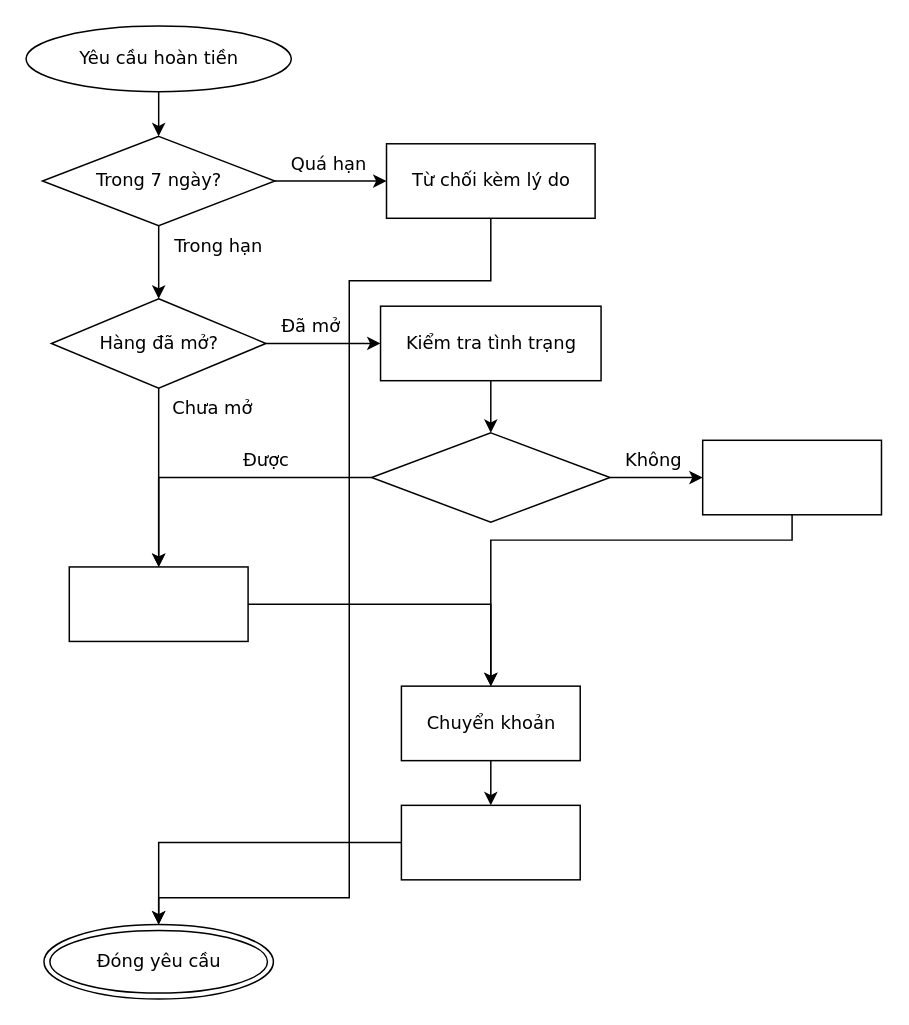
Image size: 909x1025. Some labels were removed from this diagram. The box of each missing label's shape, as (x1, y1, x2, y2) in pixels:
Còn bán được?: (370, 431, 610, 522)
Gửi biên nhận: (400, 804, 580, 880)
Hoàn 100%: (68, 565, 248, 641)
Hoàn 50%: (701, 439, 881, 515)
